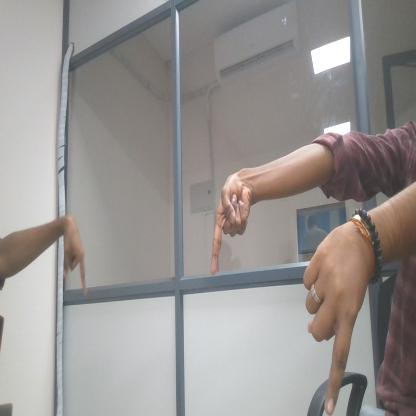Down: (304, 230, 360, 415), (210, 169, 250, 282), (60, 208, 92, 299)
